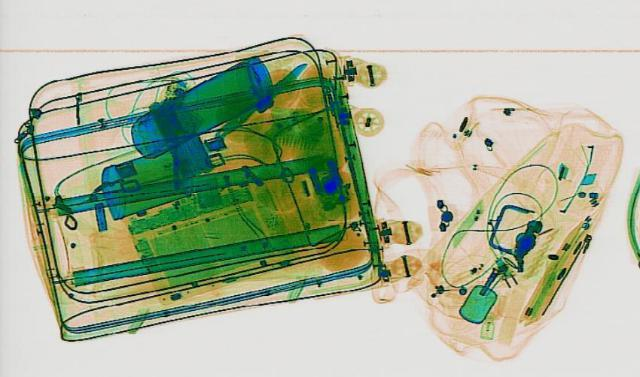Knife: (210, 59, 312, 138)
